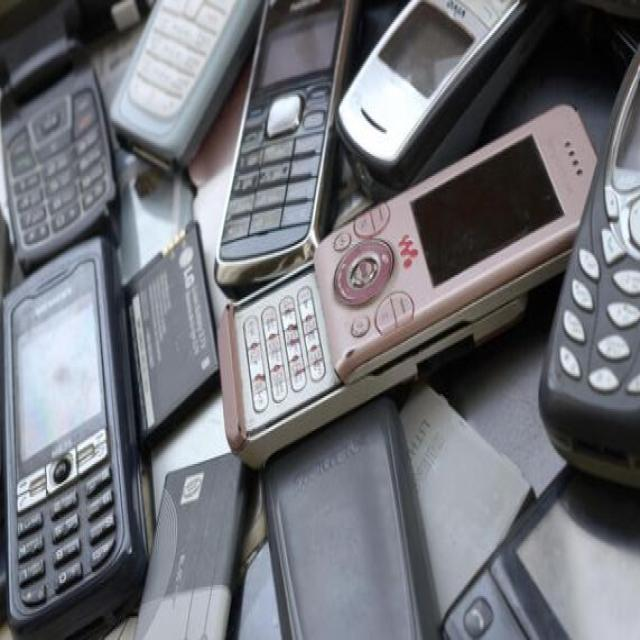electronic: (2, 240, 168, 640), (191, 0, 347, 290)
